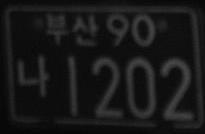0: (125, 56, 156, 119), (131, 13, 155, 47)
1: (57, 55, 87, 117)
2: (160, 57, 194, 120), (91, 56, 120, 117)
9: (105, 13, 129, 46)
나: (17, 55, 49, 98)
부산_O: (46, 14, 99, 47)
